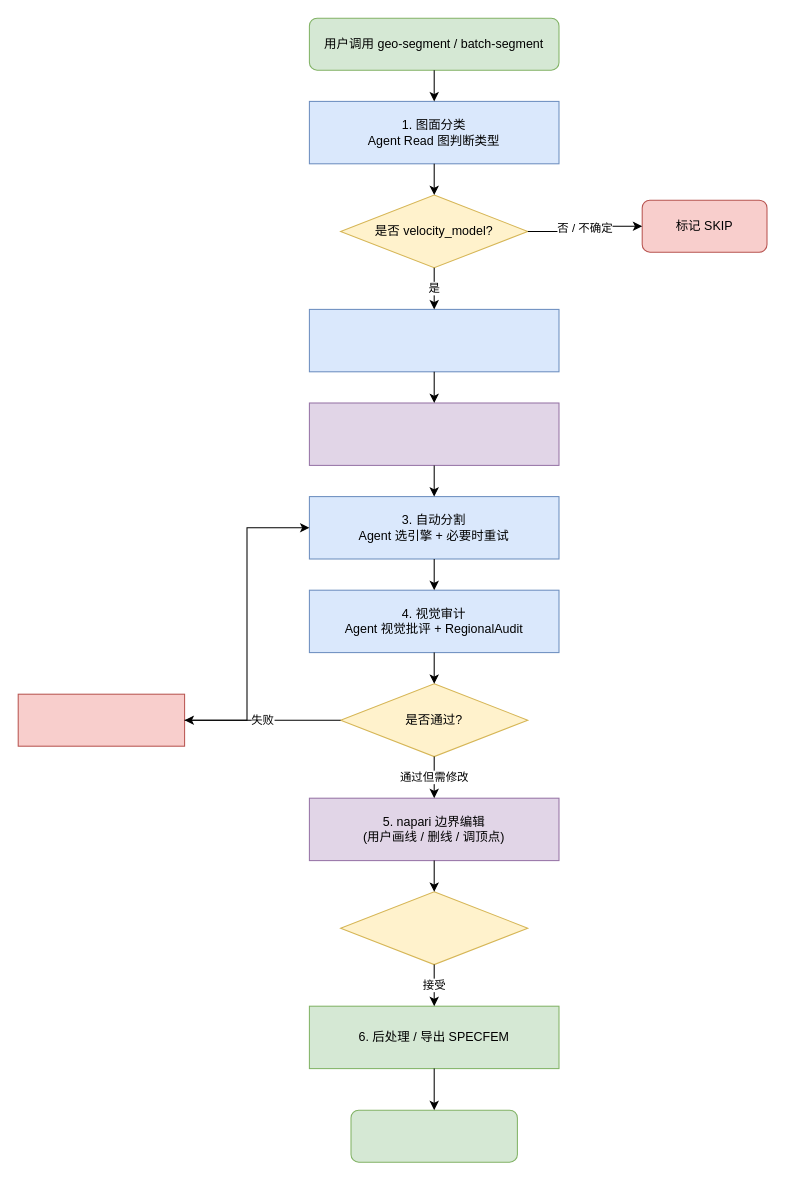
Some shapes in this 785 by 1180 pixel diagram are drawn without their labels. Here are the shapes that lost their labels. From the top down, the centre of each, then its label:
At point (433, 340): "2. 面板检测 切面板 / 提颜色条".
At point (433, 433): "选择目标面板 (Agent 展示 / 用户指定)".
At point (101, 719): "换引擎 / 区域融合重试".
At point (434, 928): "用户确认结果".
At point (433, 1135): "完成".
